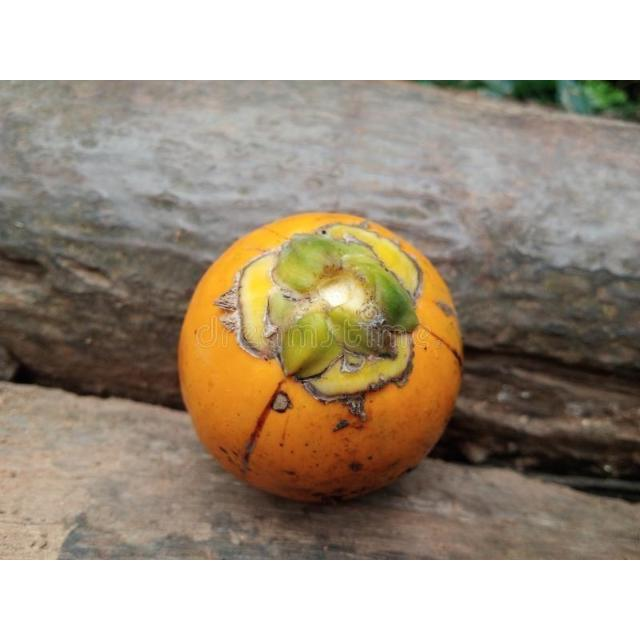good: (177, 213, 463, 506)
